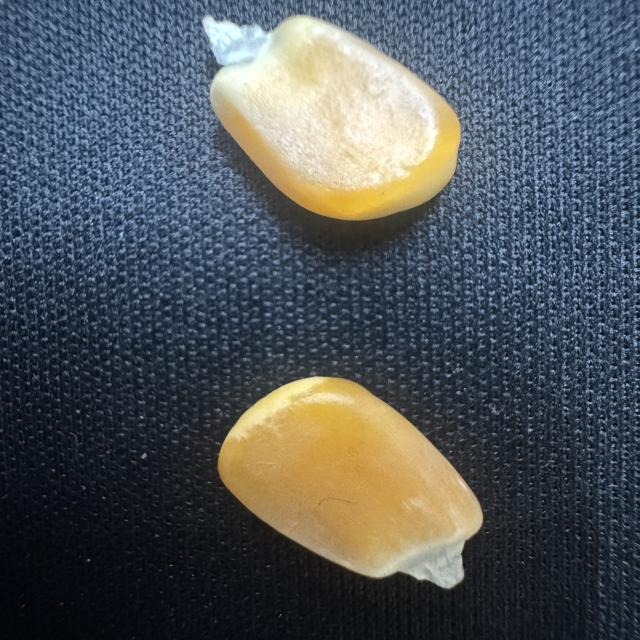Good-Seed: (206, 368, 497, 600), (202, 7, 466, 224)
